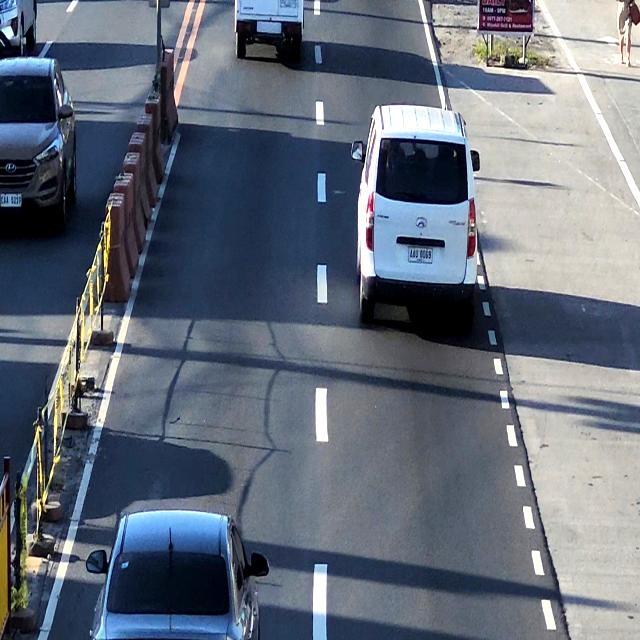Car: (356, 104, 478, 313), (97, 504, 258, 640), (230, 0, 303, 61)
License-Plate: (409, 247, 433, 266)
